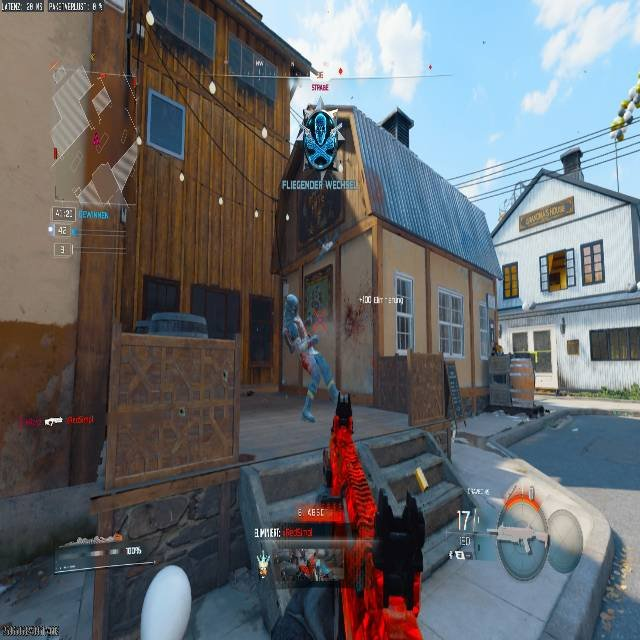player: (281, 293, 341, 423), (291, 106, 350, 178)
